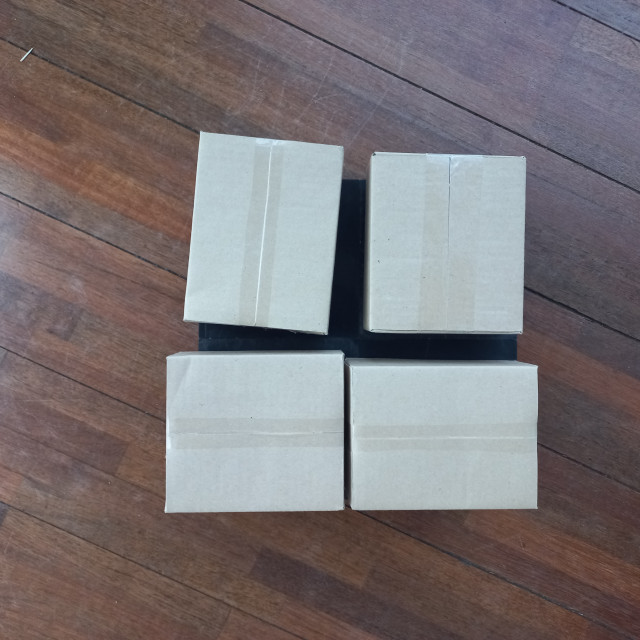box: (181, 128, 346, 343), (162, 348, 348, 515), (366, 150, 528, 338), (345, 359, 541, 511), (301, 303, 425, 510), (163, 302, 287, 490), (300, 125, 439, 291), (154, 127, 300, 281)
